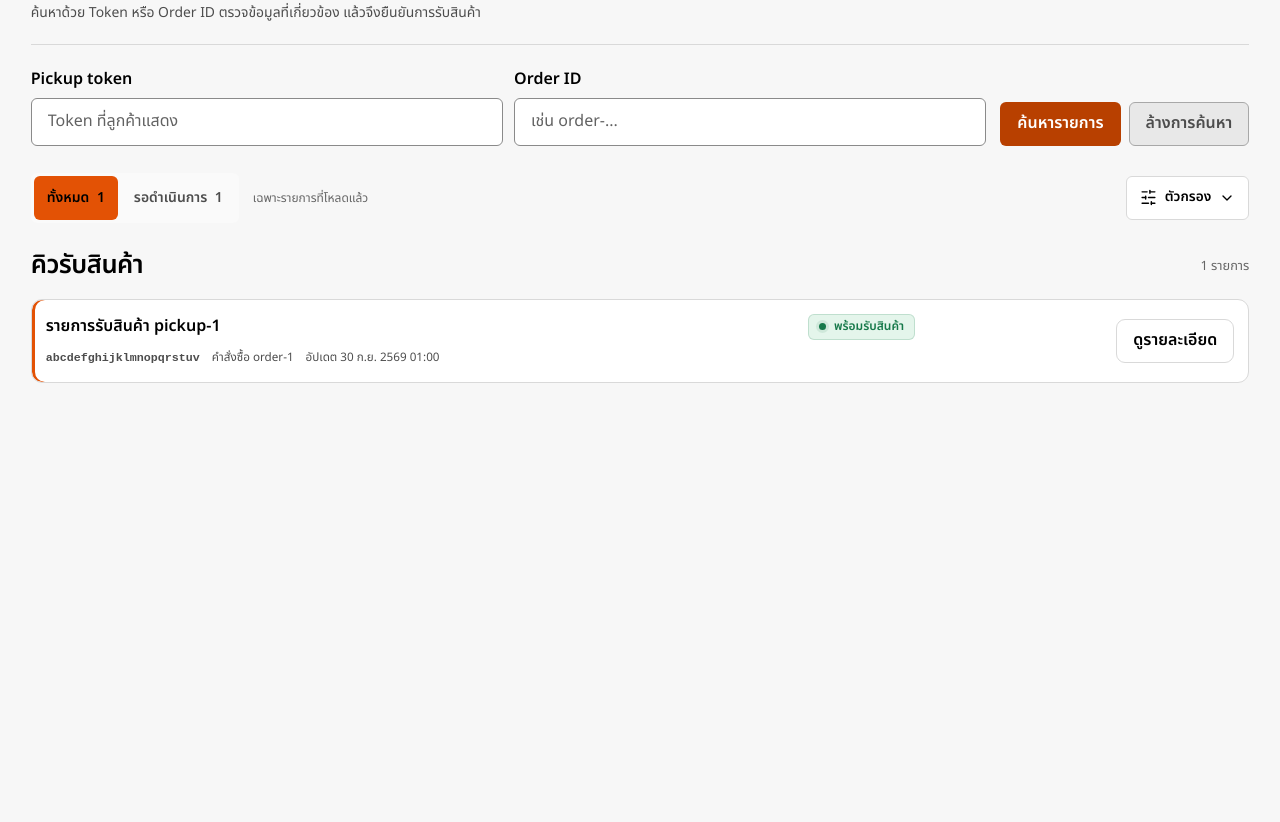
Test case: OrganizationPickupsView › loads fresh Pickup and Order detail before confirmation
The image size is (1280, 822).
Expected: the heading "รายการรับสินค้า pickup-1" is shown, [46, 314, 220, 338]
Click the button with aria-label "ดูรายละเอียด Pickup pickup-1". click: click(1175, 341)
box: [1116, 319, 1234, 363]
(page scrolled)
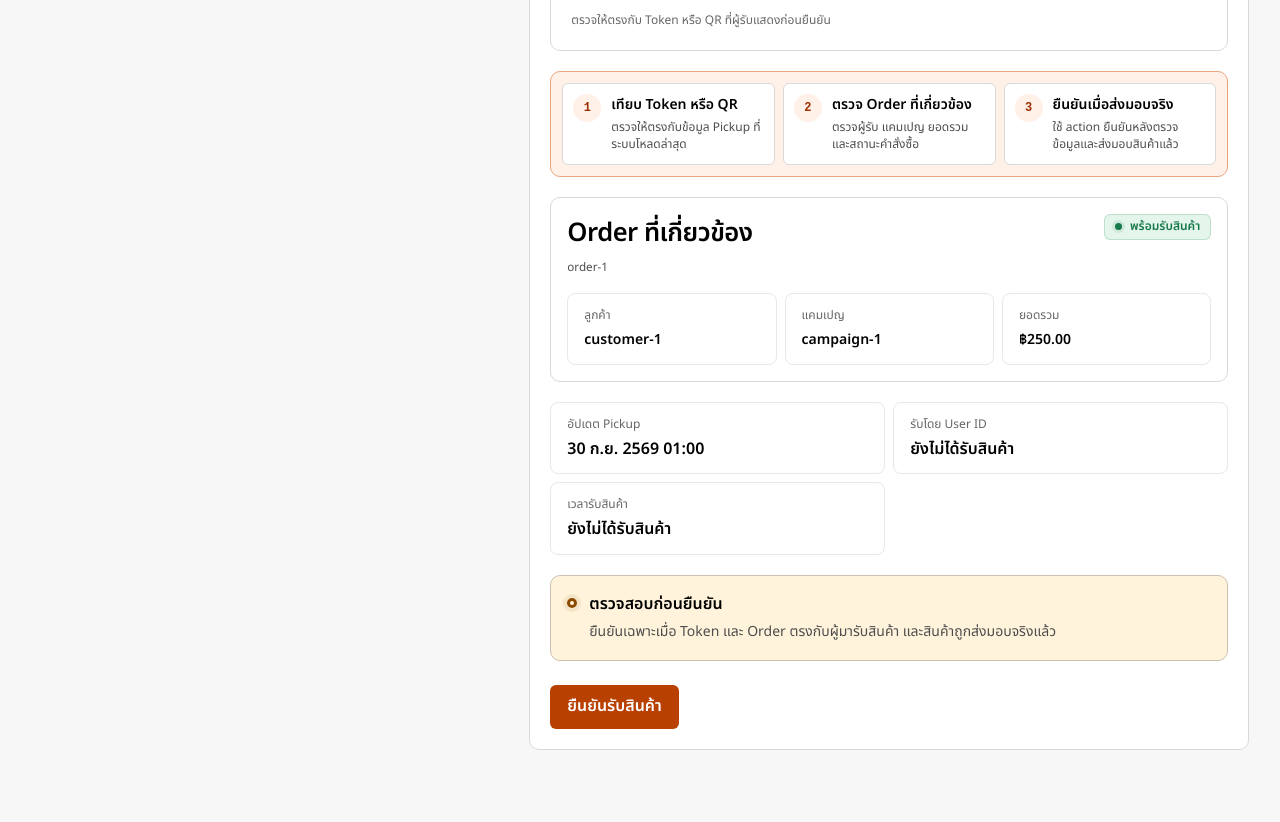
Expected: the heading "Order ที่เกี่ยวข้อง" is shown, [567, 214, 753, 253]
Expected: the button "ยืนยันรับสินค้า" is shown, [550, 684, 679, 728]
